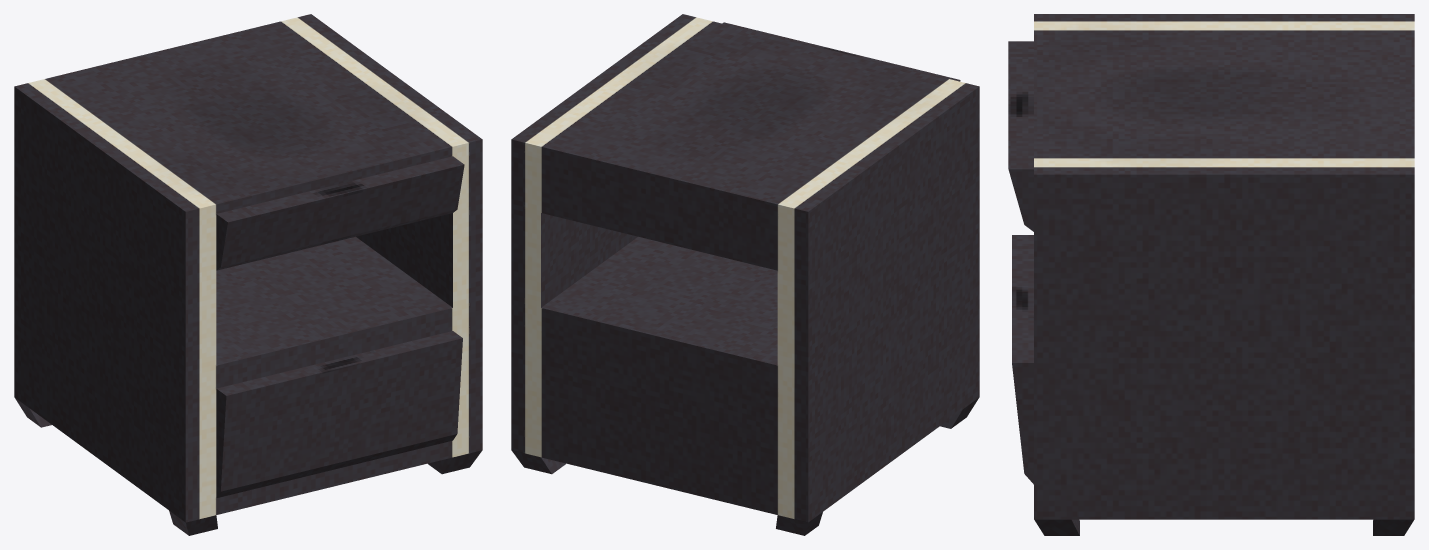
Rendered from Nightstand.fbx.
3 views of the same model, side by side, from view 1: azimuth 30°, elevation 25°; view 2: azimuth 150°, elevation 25°; view 3: azimuth 270°, elevation 25° (orthographic). The views are drawn at different scales.
Parts seen in each view (by area): view 1: Nightstand; view 2: Nightstand; view 3: Nightstand.
Part boxes in pixels (x1,y1,x2,y2): Nightstand: (14, 14, 482, 535); Nightstand: (511, 14, 979, 535); Nightstand: (1008, 14, 1414, 535).
Size of the model in its own units: 62.63 by 66.41 by 66.85.
Materials: 2 (2 with a texture image).
